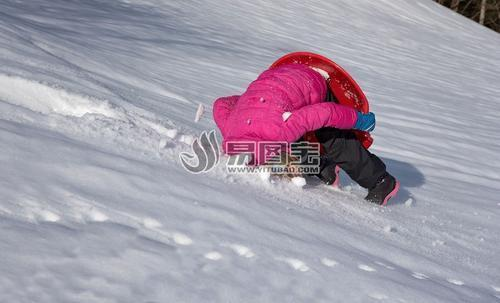Fall-Detected: (207, 46, 411, 215)
